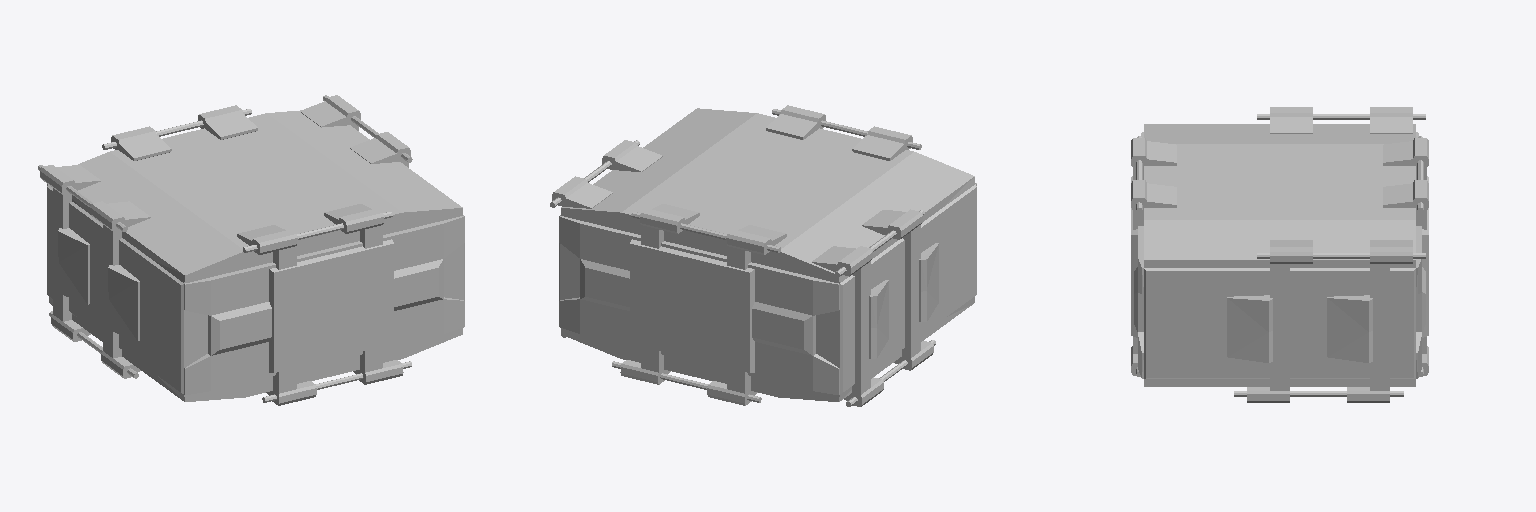
File: Scifi_Crate03.obj
The picture shows the model from 3 angles: view 1: azimuth 30°, elevation 25°; view 2: azimuth 150°, elevation 25°; view 3: azimuth 270°, elevation 25°; orthographic projection.
Parts seen in each view (by area): view 1: LargeCrate_Cube.030; view 2: LargeCrate_Cube.030; view 3: LargeCrate_Cube.030.
Part boxes in pixels (bbox=[...]): LargeCrate_Cube.030: bbox=[38, 95, 464, 405]; LargeCrate_Cube.030: bbox=[550, 105, 976, 406]; LargeCrate_Cube.030: bbox=[1131, 107, 1428, 402].
Size of the model in its own units: 3.5 by 1.83 by 2.94.